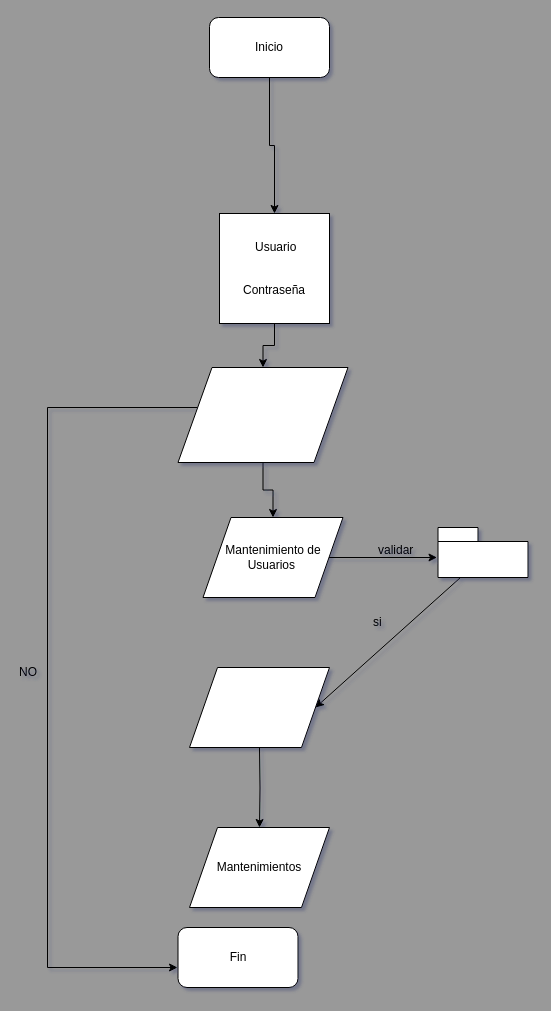
Some shapes in this 551 by 1011 pixel diagram are drawn without their labels. The centre of each missing label's shape, as x and y in pixels:
Administrador: [482,552]
Registro de Usuario: [262,414]
Usuario Registrado: [259,707]
